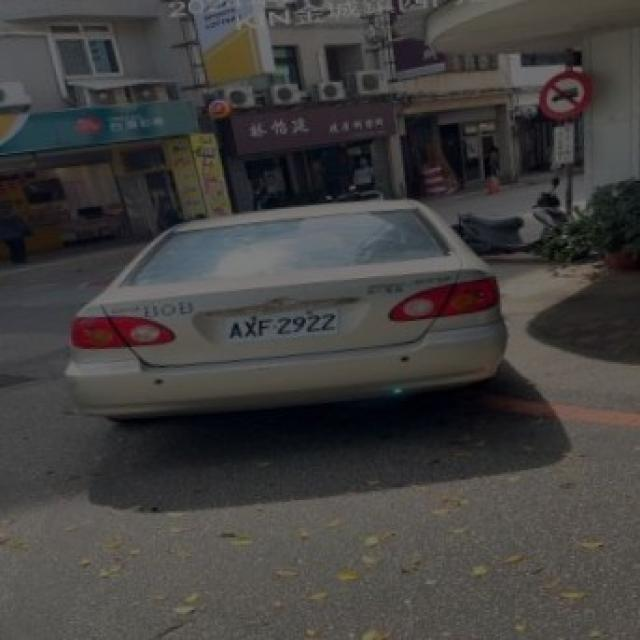illegalparking: (65, 200, 506, 420)
